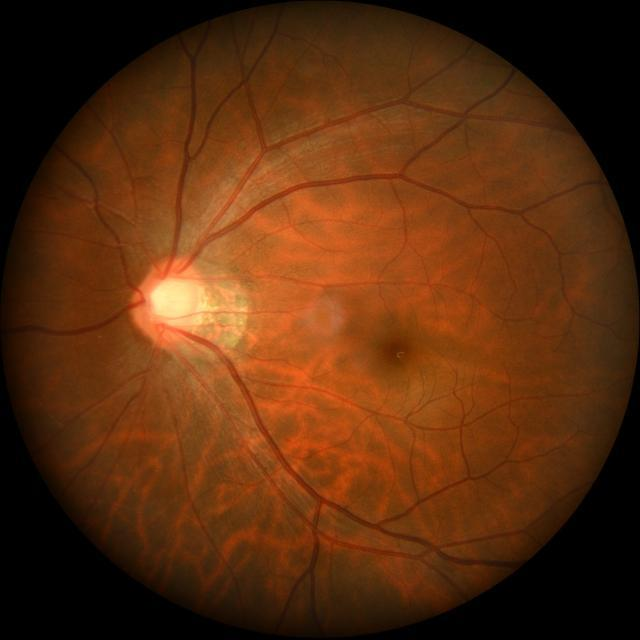OC: (150, 278, 192, 326)
OD: (132, 258, 206, 346)
